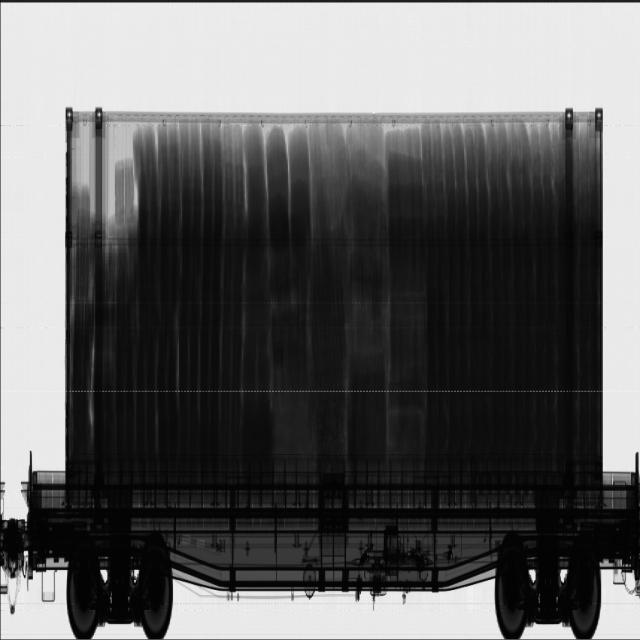clothes: (70, 119, 600, 465)
